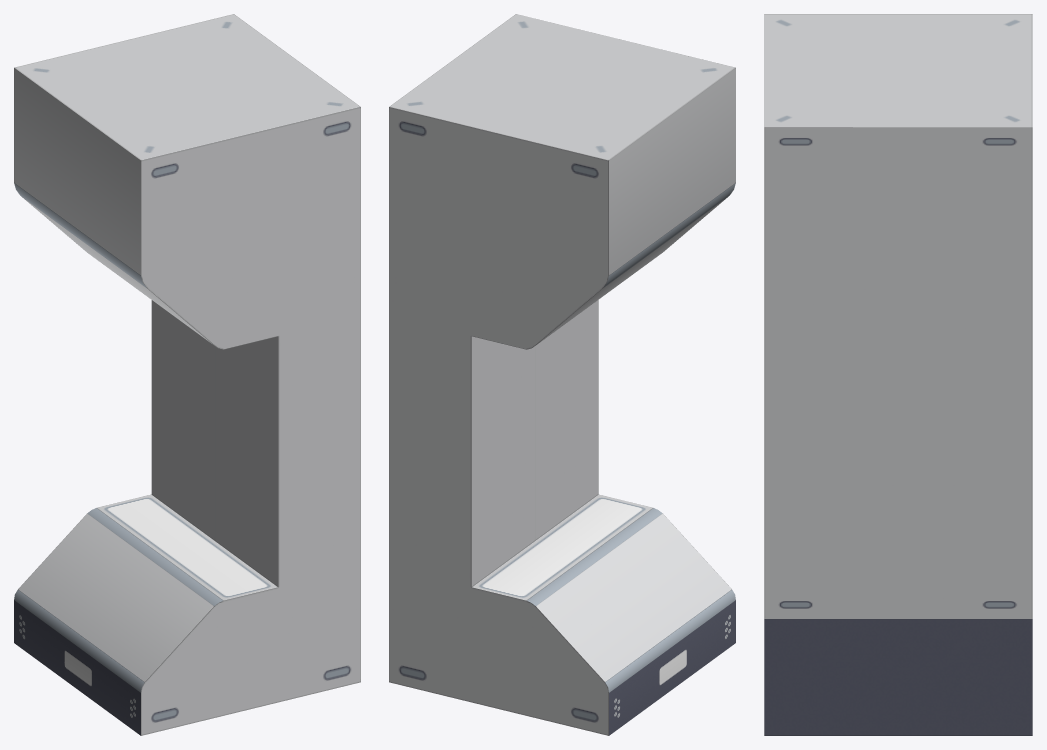
Rendered from Wall_Coin_Simple_05.FBX.
3 renders of one model, left to right at view 1: azimuth 30°, elevation 25°; view 2: azimuth 150°, elevation 25°; view 3: azimuth 270°, elevation 25°, orthographic. The views are drawn at different scales.
Parts seen in each view (by area): view 1: Wall_Coin_Simple_05; view 2: Wall_Coin_Simple_05; view 3: Wall_Coin_Simple_05.
Boxes of the visible parts, left/top/right/bottom form: Wall_Coin_Simple_05: left=14, top=14, right=360, bottom=735; Wall_Coin_Simple_05: left=389, top=14, right=735, bottom=735; Wall_Coin_Simple_05: left=764, top=14, right=1032, bottom=735.
Size of the model in its own units: 2 by 5 by 2.
Materials: 3 (3 with a texture image).
